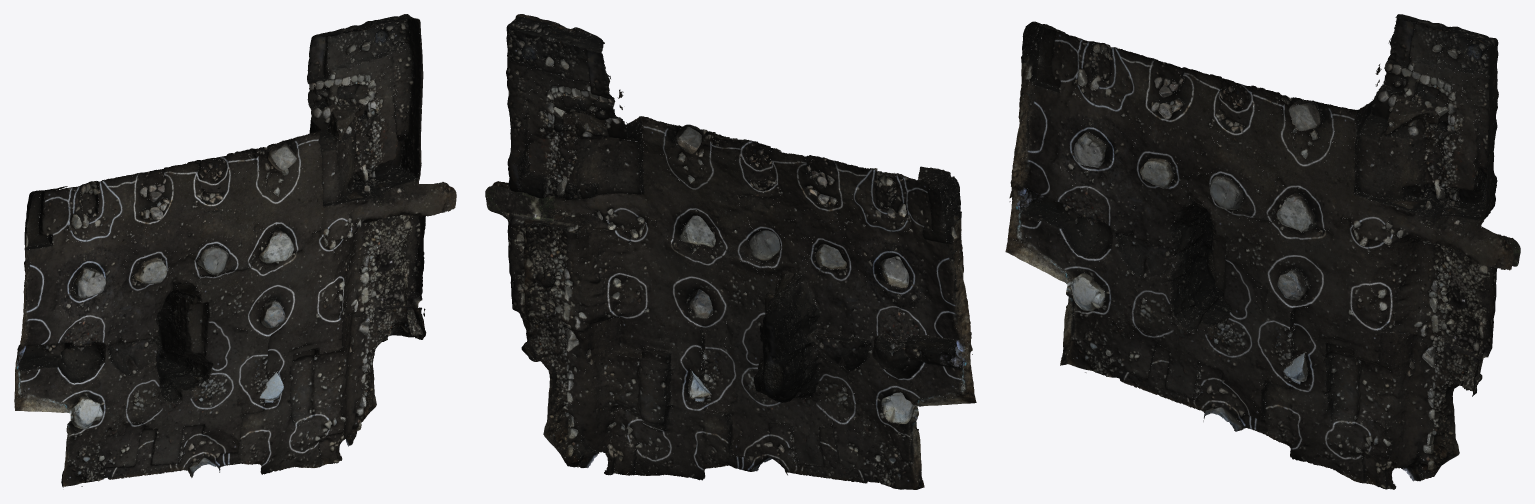
3 views of the same model, side by side, from view 1: azimuth 30°, elevation 25°; view 2: azimuth 150°, elevation 25°; view 3: azimuth 330°, elevation 25° (orthographic). The views are drawn at different scales.
Visible parts, largest first — view 1: bake; view 2: bake; view 3: bake.
Boxes of the visible parts, x1,y1,x2,y2 form: bake: (14,14,456,487); bake: (485,14,976,489); bake: (1005,14,1520,489).
Bounding box in the file's own units: 14.55 × 13.07 × 1.86.
1 material, 1 textured.
